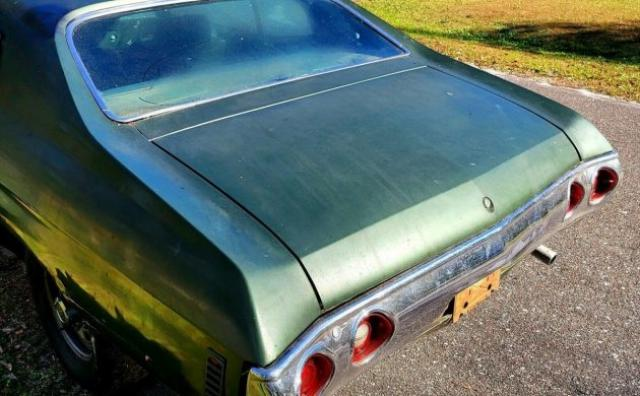chevelle-1972: (0, 0, 621, 394)
